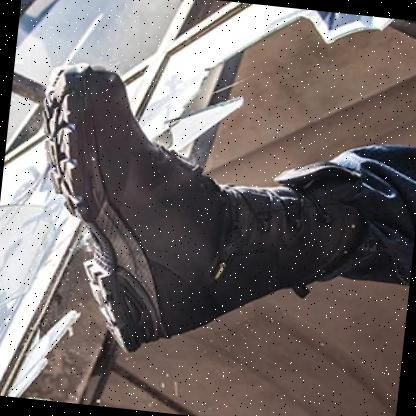bota: (26, 56, 372, 380)
